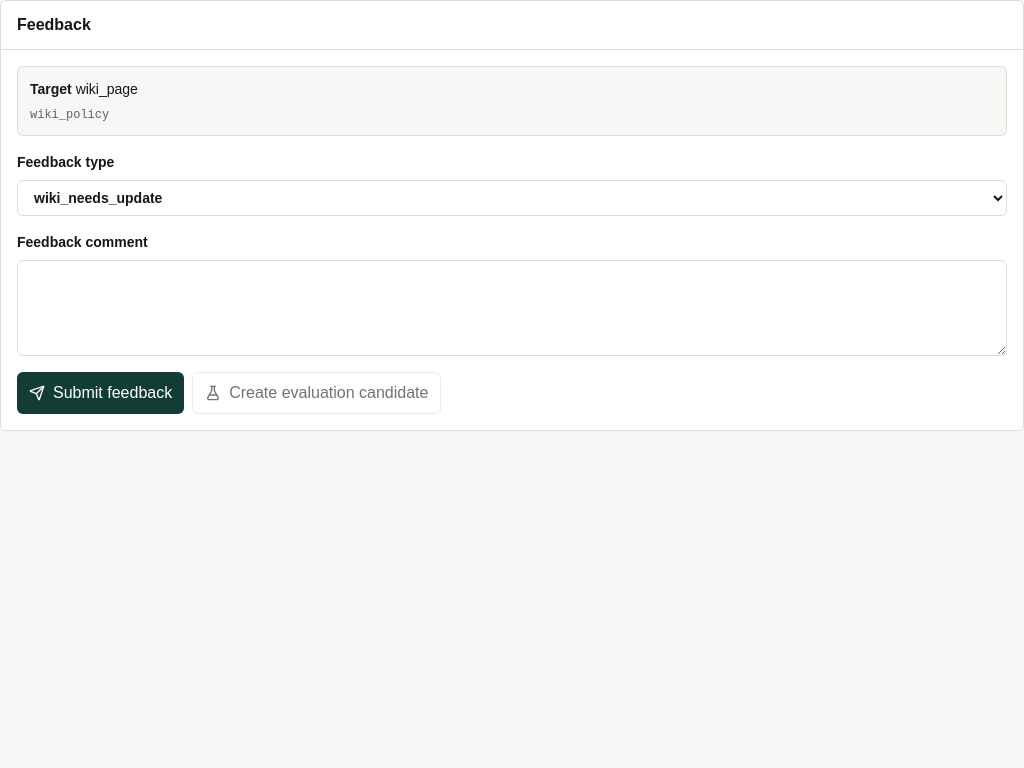
Test: FeedbackDialog › submits unified feedback and can convert it to an evaluation sample
Select "wiki_needs_update" in the dropdown labelled "Feedback type" at (512, 198), box [17,180,1007,216]
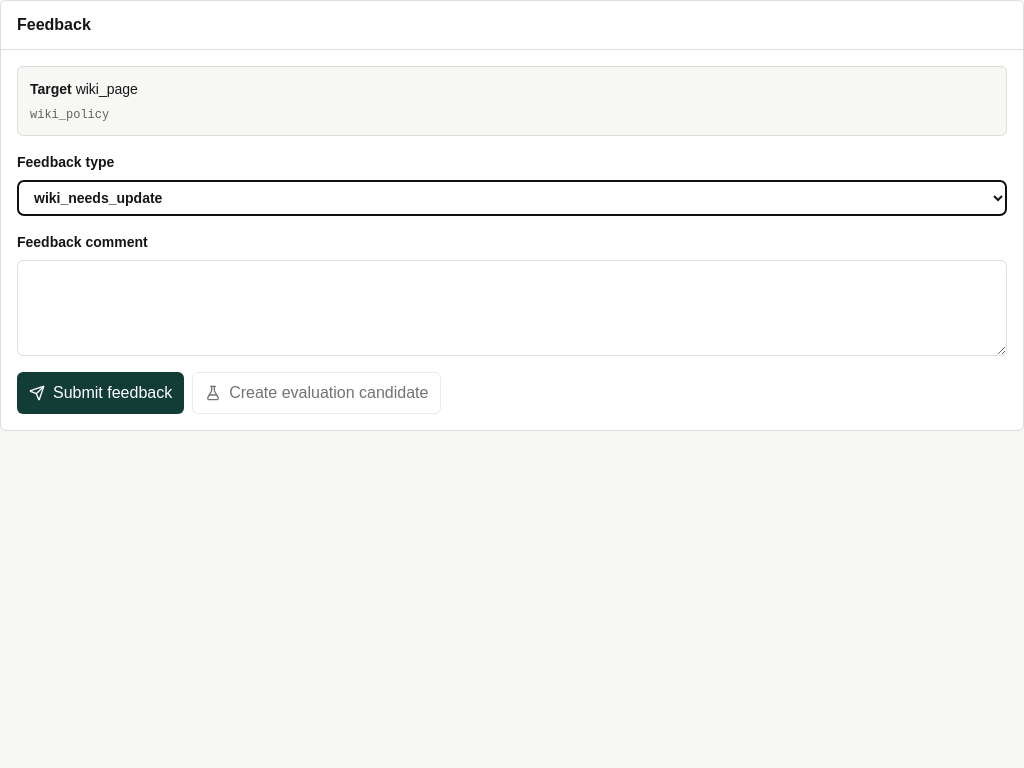
Type "Clarify manager approval timing." into the text box labelled "Feedback comment".
click(512, 308); type("Clarify manager approval timing.")  # box [17,260,1007,356]
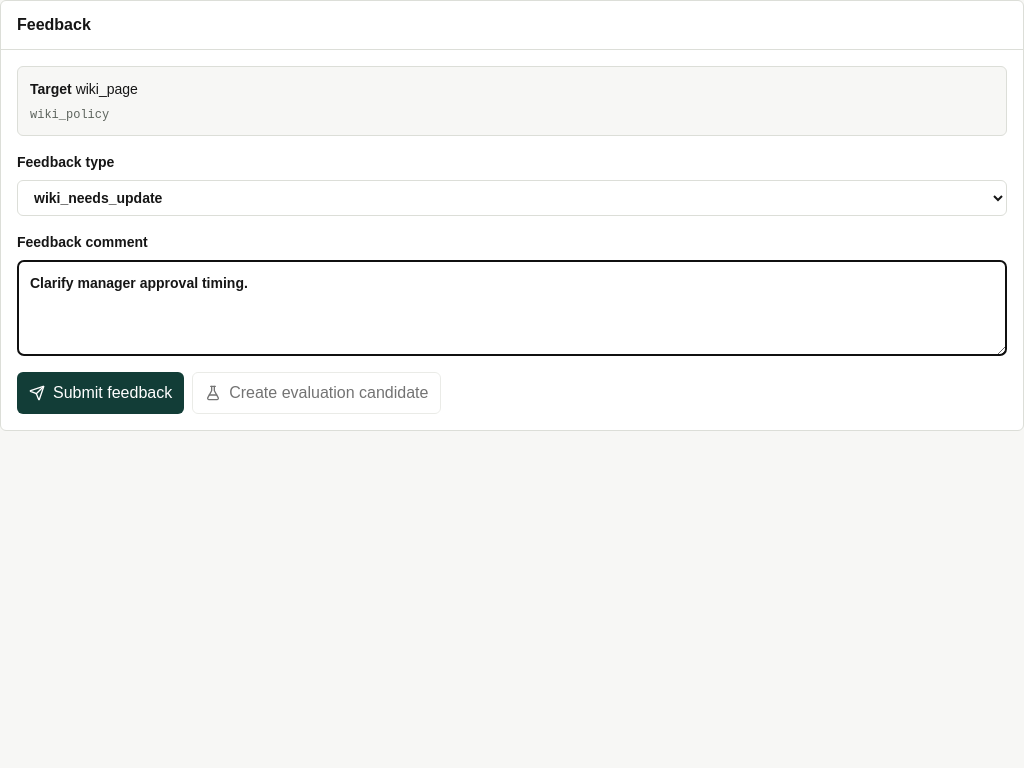
Click the button "Submit feedback".
click(101, 393)  # box [17,372,184,414]
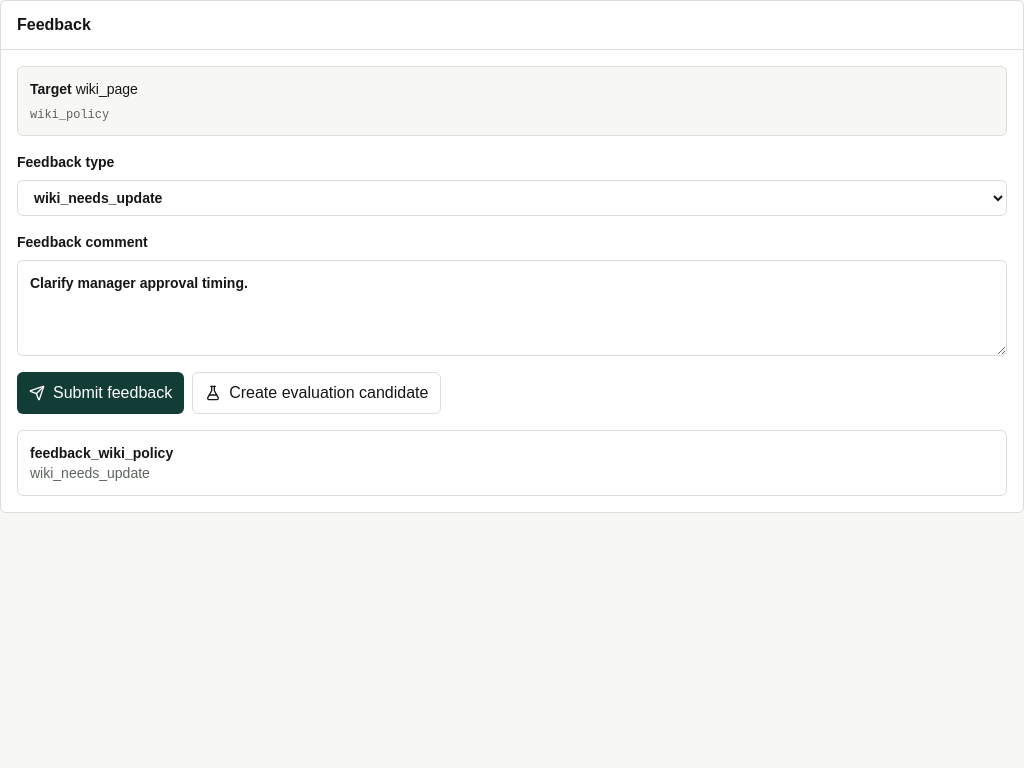
Expected: the text "feedback_wiki_policy" is shown, [30,445,173,461]
Click the button "Create evaluation candidate".
click(317, 393)  # box [192,372,442,414]
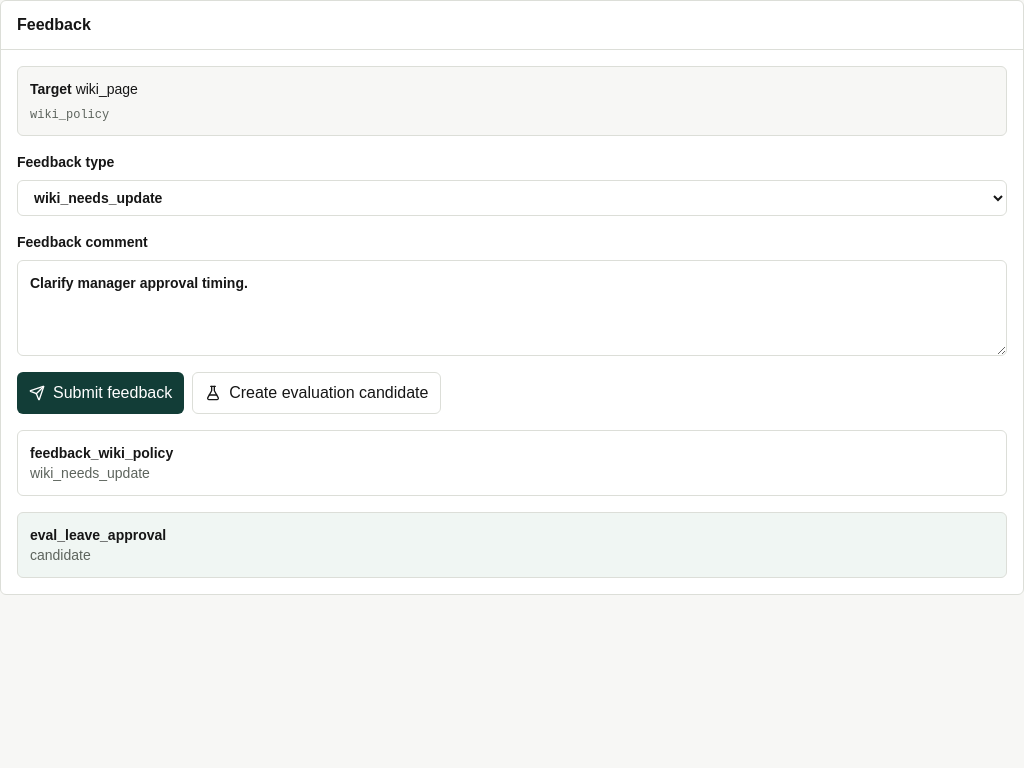
Expected: the text "eval_leave_approval" is shown, [30,527,166,543]
